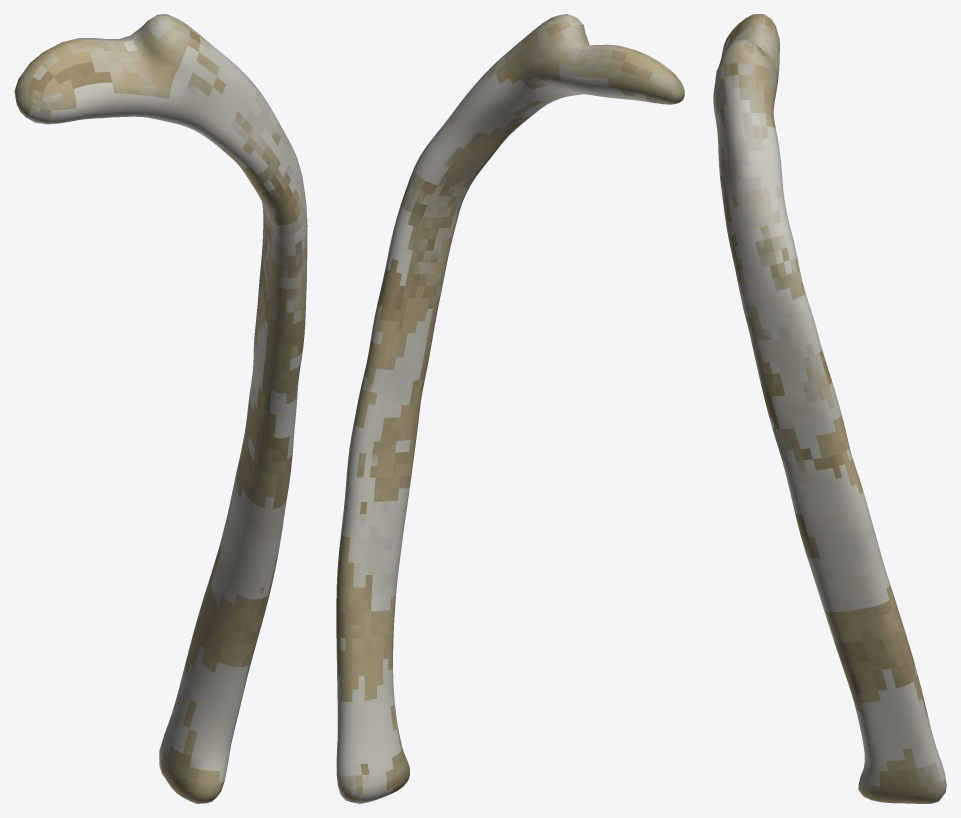
File: Rib L03.fbx
3 views of the same model, side by side, from view 1: azimuth 30°, elevation 25°; view 2: azimuth 150°, elevation 25°; view 3: azimuth 270°, elevation 25° (orthographic). The views are drawn at different scales.
Parts seen in each view (by area): view 1: Rib L03; view 2: Rib L03; view 3: Rib L03.
Boxes of the visible parts, x1,y1,x2,y2 form: Rib L03: (14, 14, 307, 803); Rib L03: (336, 14, 684, 803); Rib L03: (713, 14, 946, 803).
Bounding box in the file's own units: 7.24 × 18.71 × 5.56.
